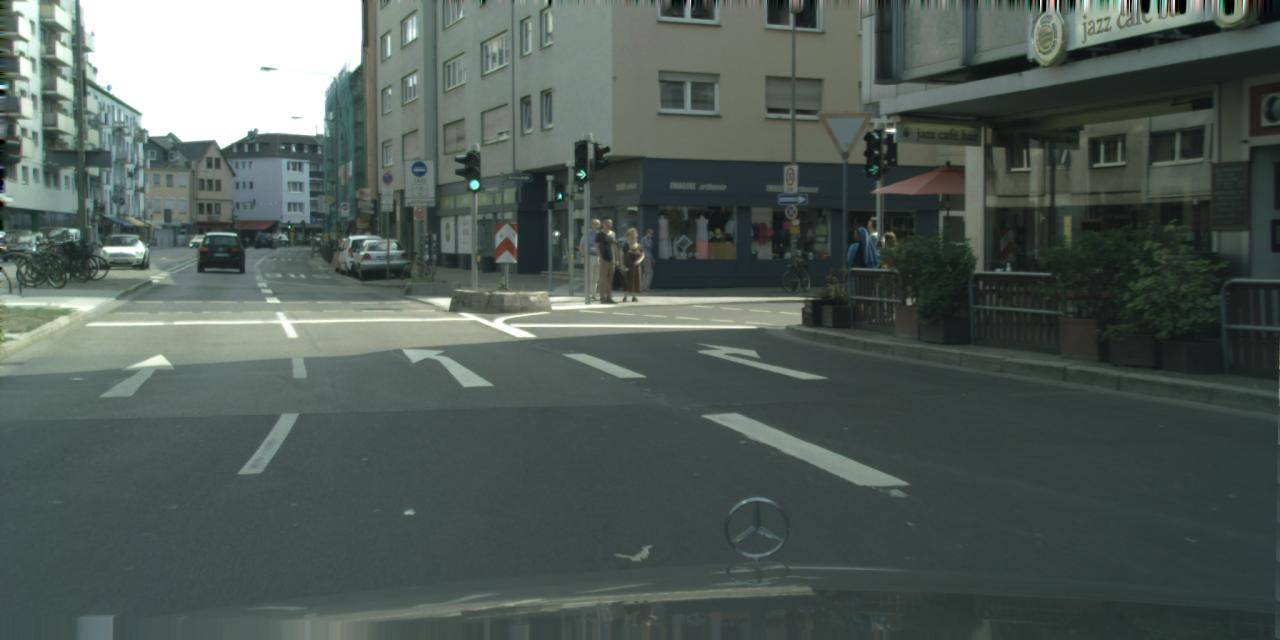ped: (857, 216, 897, 314), (843, 227, 880, 318), (590, 216, 625, 303), (578, 218, 612, 300), (876, 230, 908, 310), (616, 228, 645, 300), (635, 229, 659, 290), (244, 236, 248, 246)
